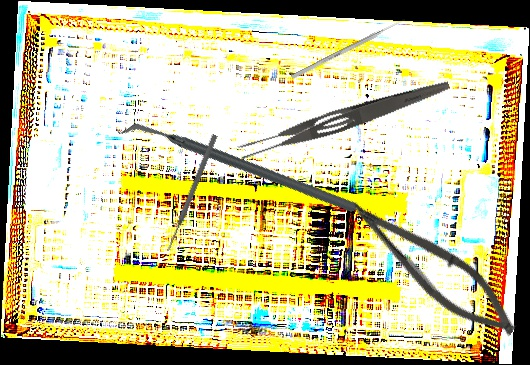Chopper: (116, 48, 361, 289)
Dressing Forceps: (236, 70, 452, 166)
Micro Scissor: (335, 190, 530, 348)
Pusher: (290, 17, 407, 80), (164, 133, 219, 253)
